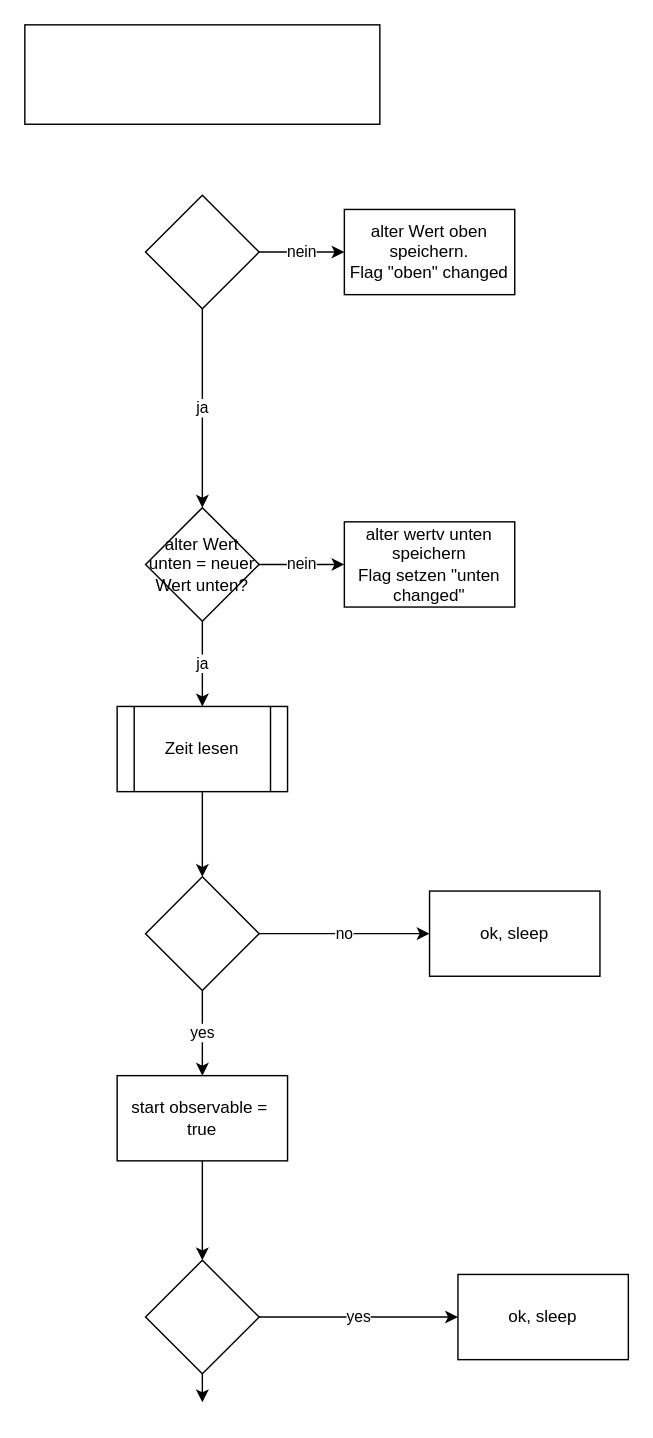
This 653x1438 diagram has some shape labels left out. Here are the shapes that lost their labels. From the top down, the centre of each, then its label:
the point at 201,73: reset flags obenchanged unten changed, start observable time
the point at 201,251: alter Wert oben = neuere Wert Oben?
the point at 201,932: in observable time
the point at 201,1316: closed
